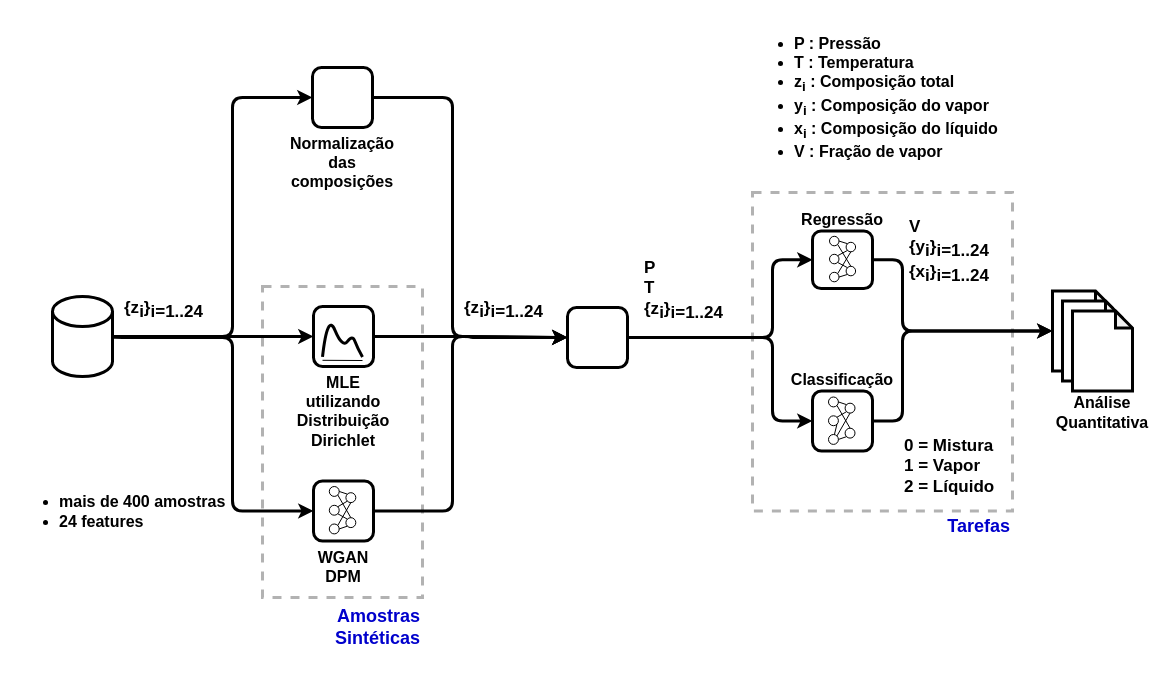
Image size: 1165x674. Some labels were removed from this diagram. The shapes that lost their labels are listed below. From the top down, each one's box as (x1, y1, x2, y2) in pixels, then its label:
(50, 294, 114, 378): Dados de composição de reservatórios reais
(566, 306, 628, 368): Amostra P e T
